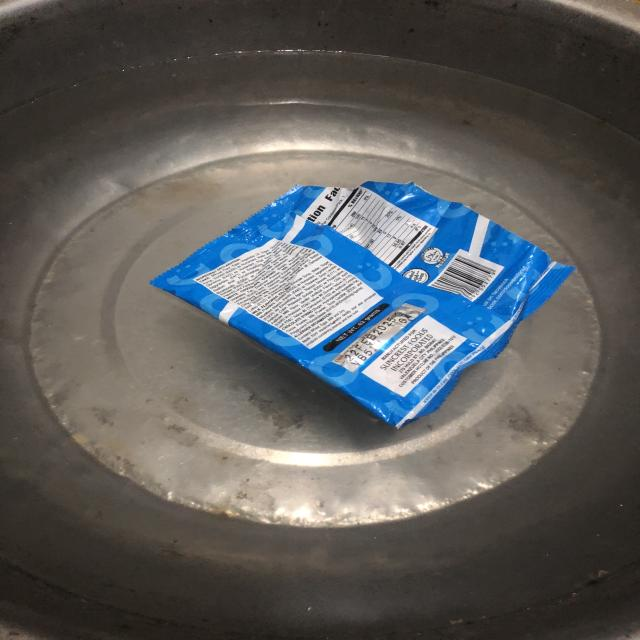Plastic Wrapper: (150, 182, 574, 429)
